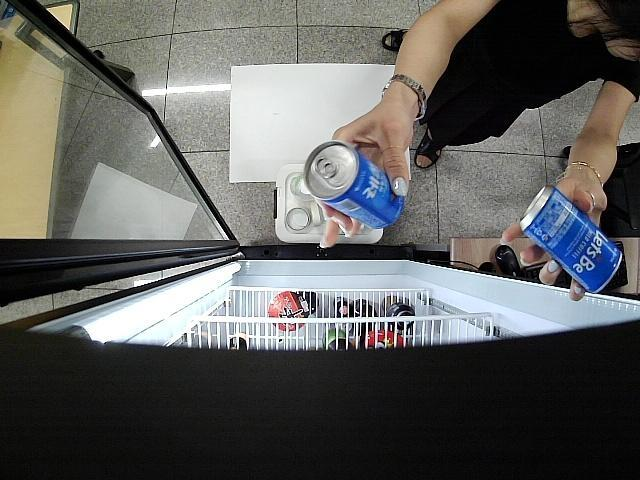15_letsbe: (520, 185, 624, 294), (302, 142, 406, 230)
